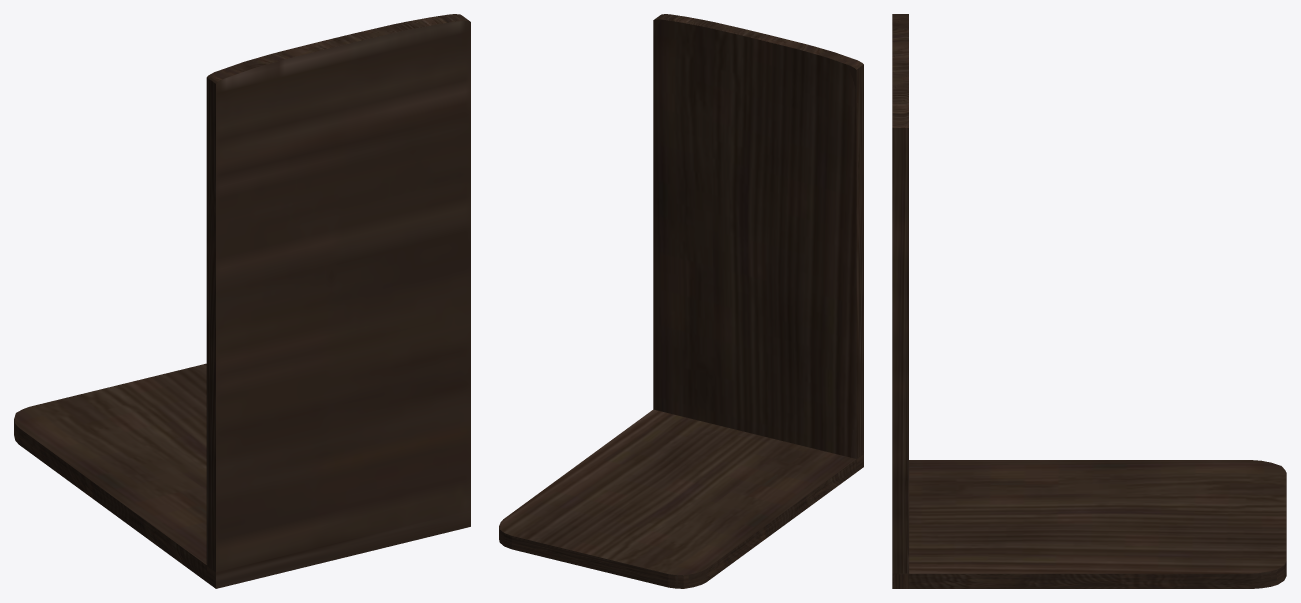
The model's file is DocumentStand.fbx.
The picture shows the model from 3 angles, left to right: view 1: azimuth 30°, elevation 25°; view 2: azimuth 150°, elevation 25°; view 3: azimuth 270°, elevation 25°; orthographic projection. The views are drawn at different scales.
Parts seen in each view (by area): view 1: Export document stand; view 2: Export document stand; view 3: Export document stand.
Part boxes in pixels (box(x1,y1,x2,y2)): Export document stand: box(14, 14, 470, 588); Export document stand: box(499, 14, 863, 588); Export document stand: box(892, 14, 1286, 588).
Size of the model in its own units: 16.14 by 31.05 by 23.71.
